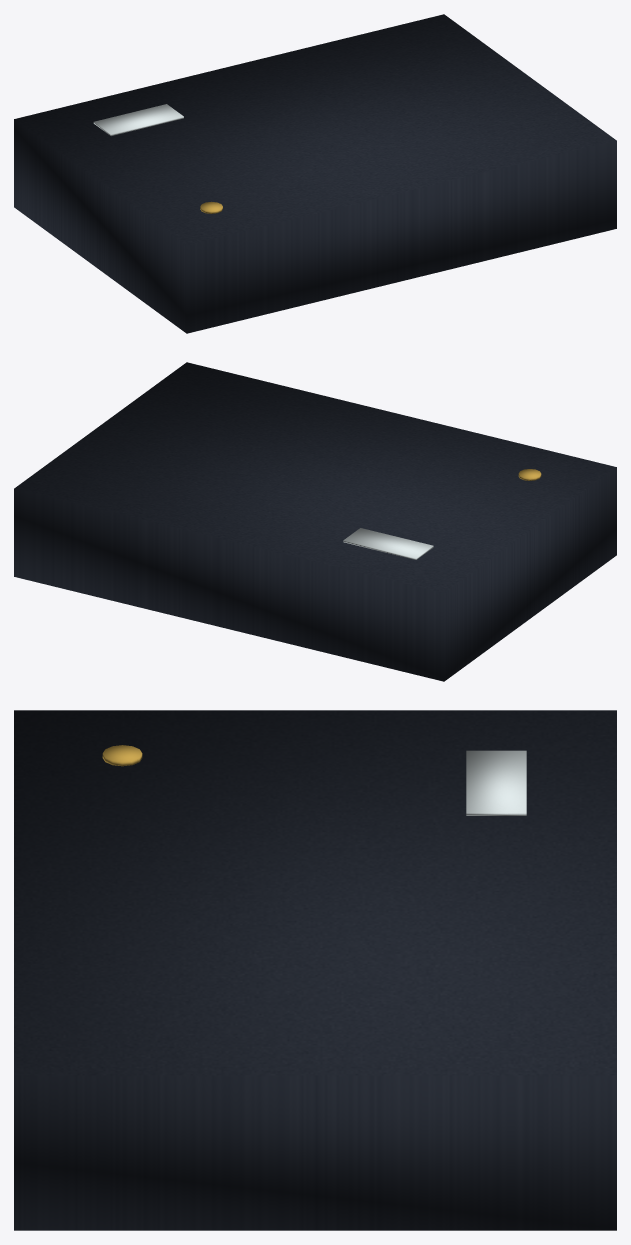
File: 039_L116_NAND7.obj
3 views of the same model, one above another, from view 1: azimuth 30°, elevation 25°; view 2: azimuth 150°, elevation 25°; view 3: azimuth 270°, elevation 25° (orthographic). The views are drawn at different scales.
Parts seen in each view (by area): view 1: L116_000__PSMAT__NAND_Epoxy, L116_001__PSMAT__Silkscreen_White; view 2: L116_000__PSMAT__NAND_Epoxy, L116_001__PSMAT__Silkscreen_White; view 3: L116_000__PSMAT__NAND_Epoxy, L116_001__PSMAT__Silkscreen_White, L116_002__PSMAT__Gold_ENIG.
Part boxes in pixels (x1,y1,x2,y2): L116_000__PSMAT__NAND_Epoxy: (14, 14, 616, 333); L116_001__PSMAT__Silkscreen_White: (93, 104, 183, 135); L116_000__PSMAT__NAND_Epoxy: (14, 362, 616, 681); L116_001__PSMAT__Silkscreen_White: (343, 528, 433, 559); L116_000__PSMAT__NAND_Epoxy: (14, 710, 616, 1230); L116_001__PSMAT__Silkscreen_White: (466, 750, 526, 815); L116_002__PSMAT__Gold_ENIG: (102, 745, 142, 766).
Bounding box in the file's own units: 0.023 × 0.00499 × 0.016.
Materials: 4 (4 with a texture image).
